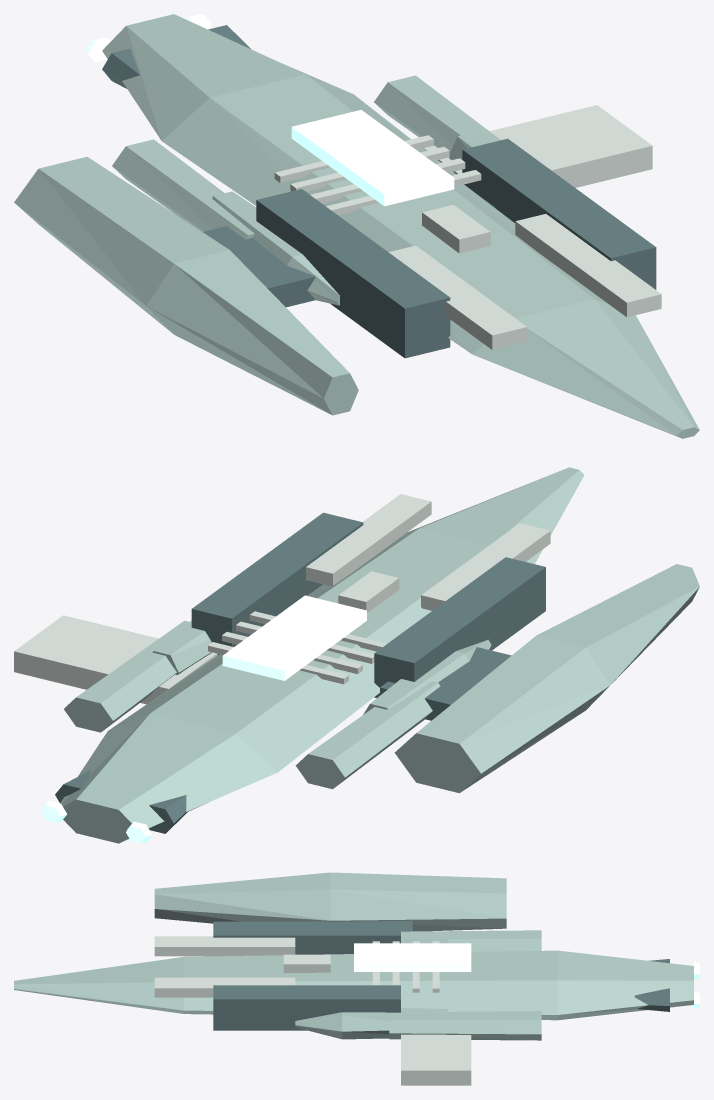
The picture shows the model from 3 angles, top to bottom: view 1: azimuth 30°, elevation 25°; view 2: azimuth 150°, elevation 25°; view 3: azimuth 270°, elevation 25°; orthographic projection. The views are drawn at different scales.
Bounding box in the file's own units: 6.5 × 0.9056 × 10.88.
